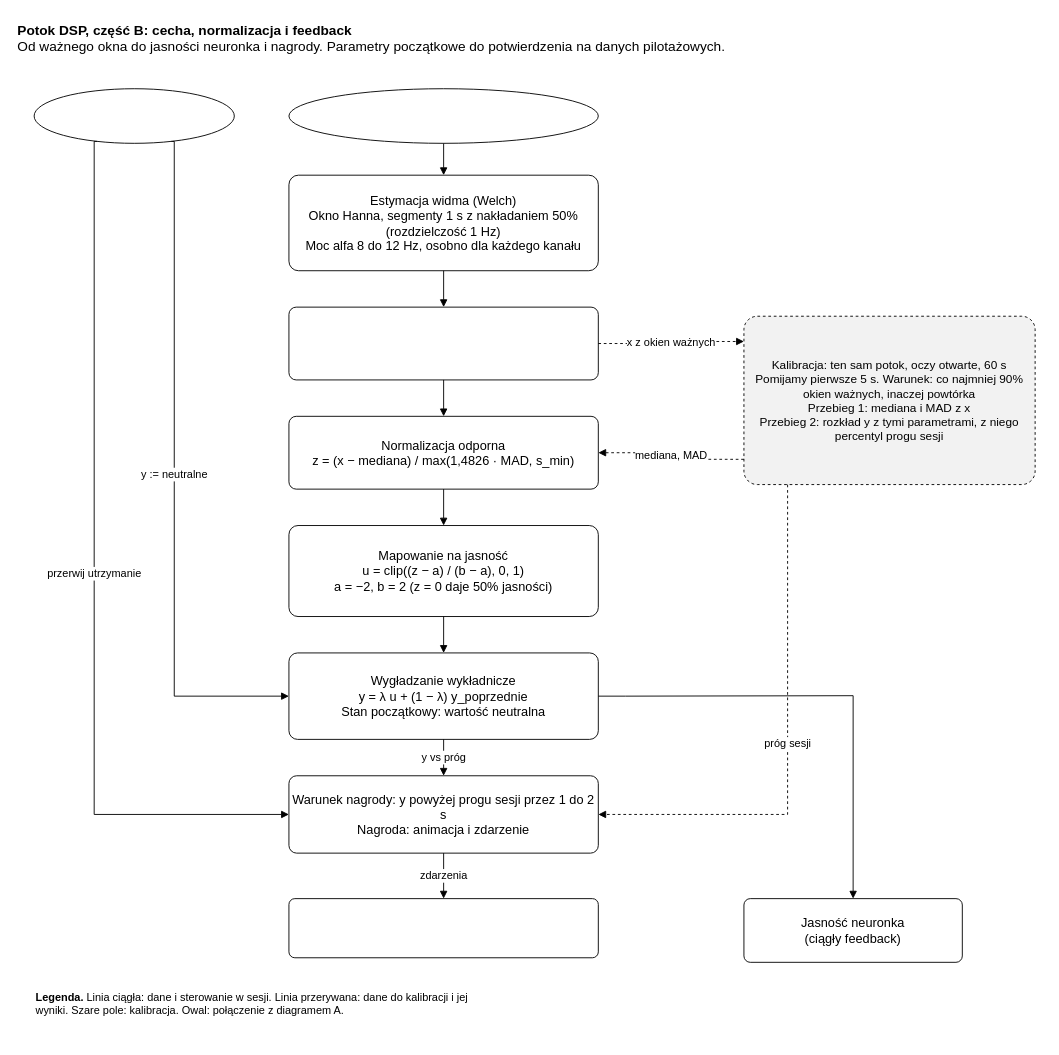
The diagram is 1059 pixels wide and 1055 high, and some of its shapes have lost their labels. The shapes that lost their labels are listed below. From the top down, each one's centre as x and y in pixels, then its label:
At point 133,115: "Okno nieważne (z diagramu A)".
At point 443,115: "Okno ważne (z diagramu A)".
At point 443,343: "Cecha x = średnia po kanałach z ln((Pα + ε) / P0) P0 = 1 µV² (stała jednostkowa)".
At point 443,928: "Zapis: zdarzenia nagród i statystyki do bazy".
